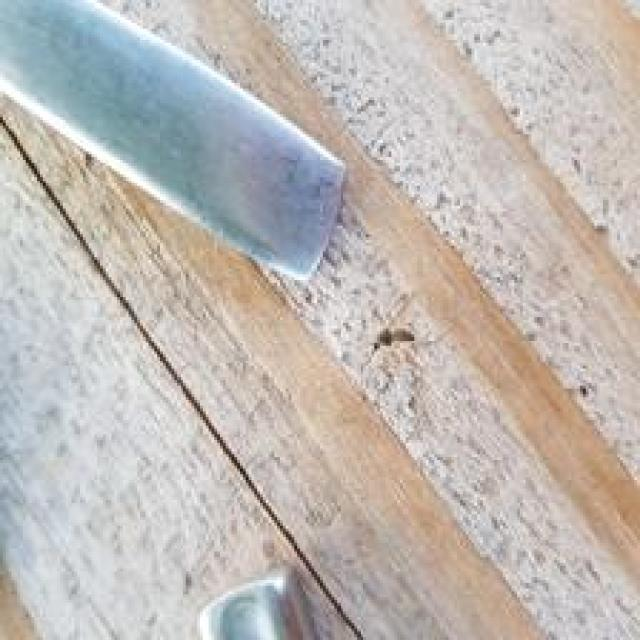Culex: (0, 0, 349, 283)
